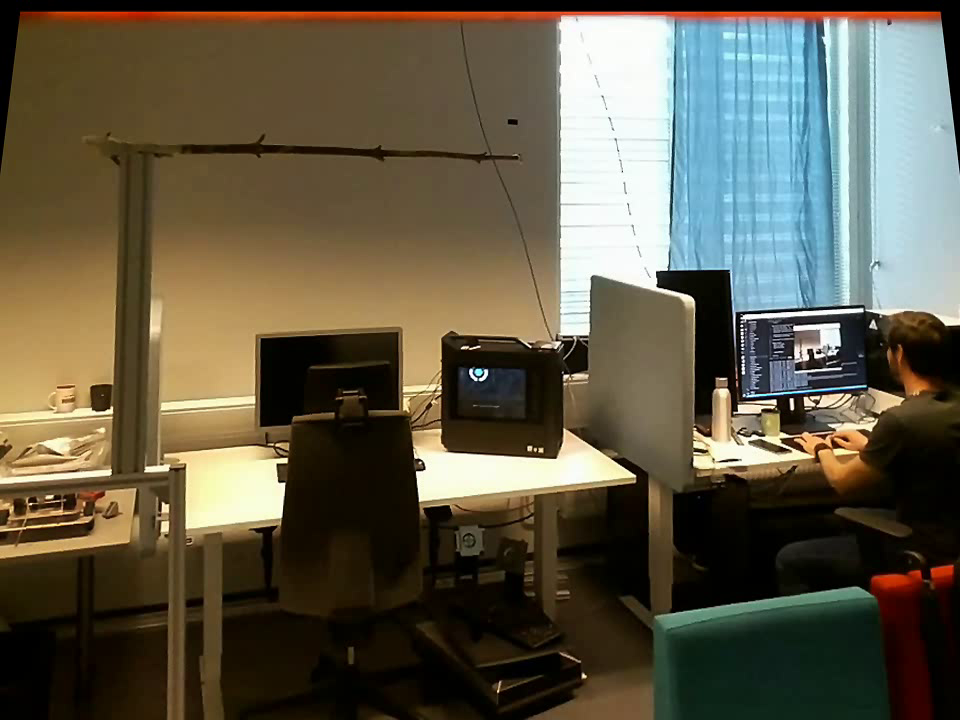aluminum_frame: (108, 157, 158, 476), (159, 462, 191, 716), (2, 458, 171, 505)
branch: (187, 124, 511, 169)
